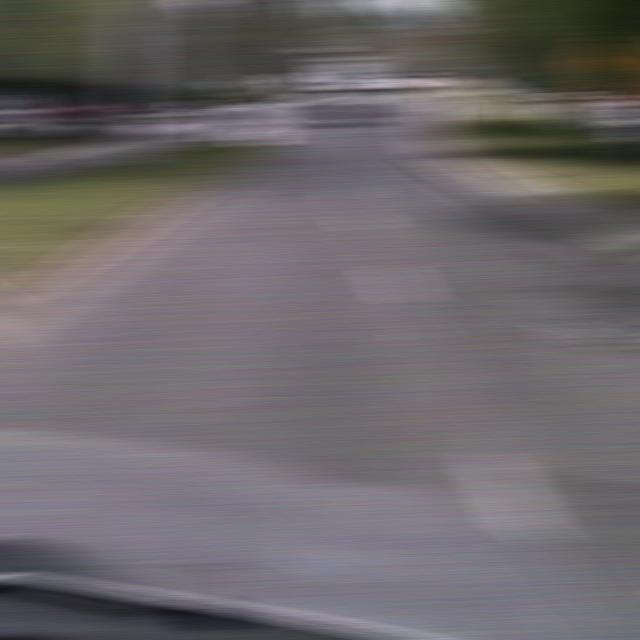pedestrianCrossing: (570, 28, 638, 84)
